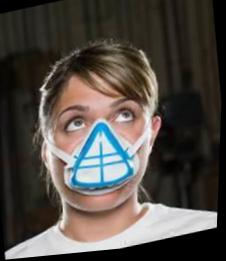WRONG: (46, 83, 163, 225)
